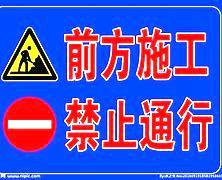sign: (2, 8, 219, 169)
